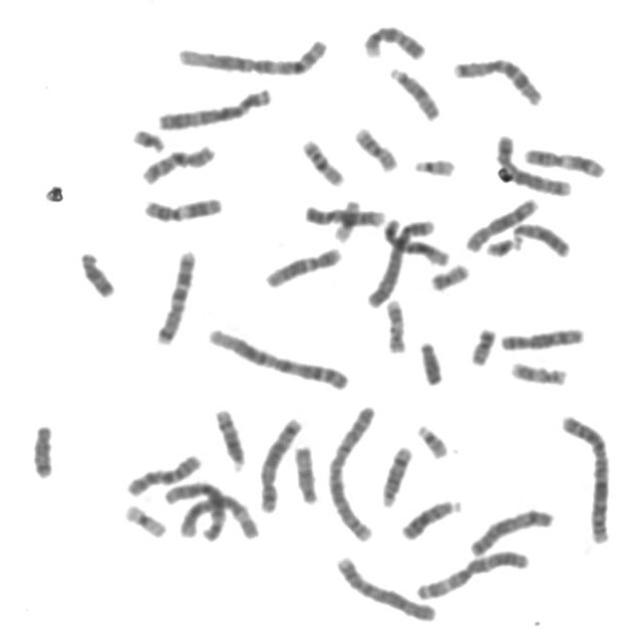A1: (203, 321, 354, 392), (172, 31, 333, 78)
A2: (323, 397, 382, 544), (556, 408, 616, 546)
A3: (412, 543, 534, 601), (153, 80, 276, 132)
B4: (331, 549, 441, 624), (362, 212, 438, 310)
B5: (492, 127, 575, 198), (254, 410, 306, 515)
C10: (123, 448, 205, 498), (137, 137, 218, 186)
C11: (519, 140, 610, 180), (139, 190, 226, 224)
C12: (260, 240, 346, 290), (378, 212, 452, 268)
C6: (173, 487, 263, 541), (160, 474, 230, 542)
C7: (449, 51, 547, 106), (152, 243, 200, 346)
C8: (461, 191, 542, 253), (497, 320, 588, 352)
C9: (359, 18, 430, 62), (300, 199, 389, 229)
D13: (396, 492, 466, 542), (508, 216, 574, 259)
D14: (210, 402, 250, 473), (377, 439, 417, 509)
D15: (384, 61, 444, 122), (290, 439, 323, 506)
E16: (297, 132, 349, 188), (350, 120, 402, 173)
E17: (506, 356, 572, 388), (382, 294, 411, 355)
E18: (75, 244, 118, 299), (27, 416, 59, 480)
F19: (120, 498, 170, 540), (329, 193, 363, 244)
F20: (426, 256, 474, 292), (466, 320, 499, 368)
G21: (128, 122, 168, 154), (482, 231, 522, 259)
G22: (412, 418, 452, 460), (410, 150, 460, 178)
X: (466, 502, 558, 558)
Y: (416, 334, 448, 387)
